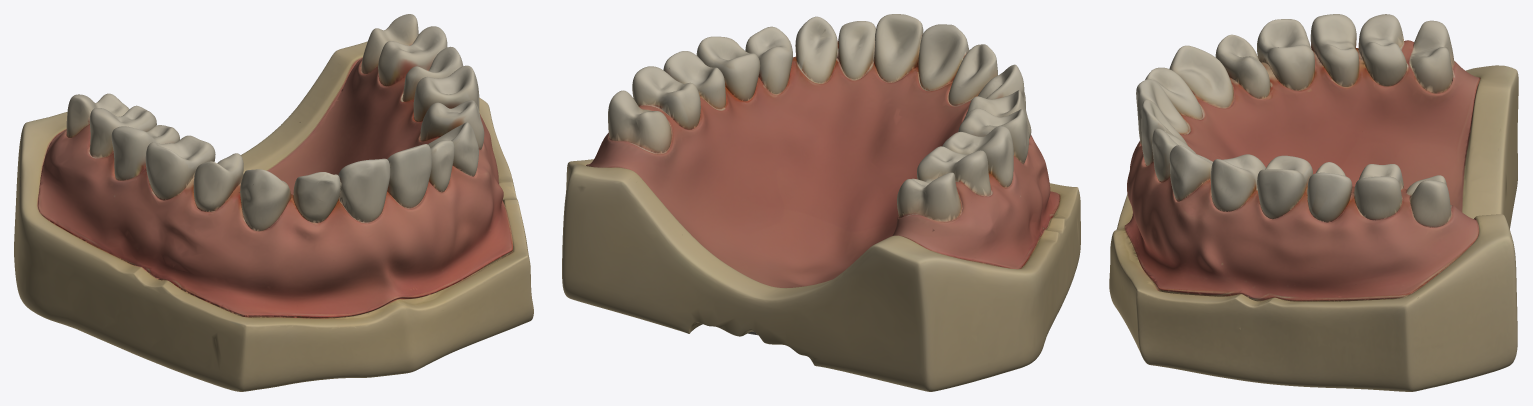
File: upper_arch.glb
3 renders of one model, left to right at view 1: azimuth 30°, elevation 25°; view 2: azimuth 150°, elevation 25°; view 3: azimuth 270°, elevation 25°, orthographic.
Visible parts, largest first — view 1: node_0; view 2: node_0; view 3: node_0.
Boxes of the visible parts, bbox=[...] form: node_0: bbox=[14, 14, 533, 391]; node_0: bbox=[562, 14, 1080, 391]; node_0: bbox=[1109, 14, 1518, 391].
Bounding box in the file's own units: 1.05 × 0.4561 × 0.805.
1 material, 1 textured.
